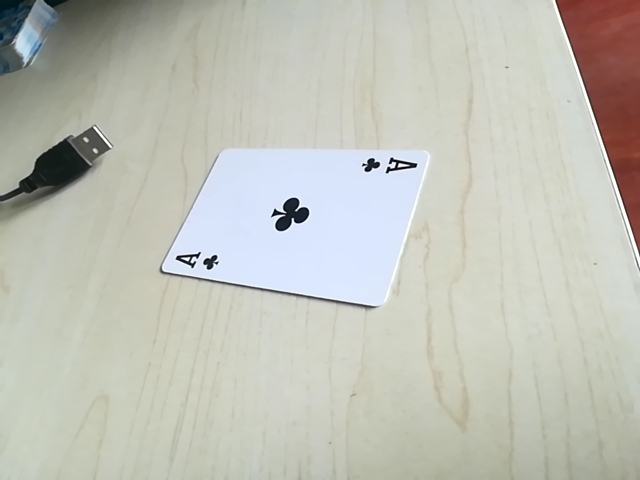mh a: (164, 244, 224, 277), (354, 154, 421, 182)
